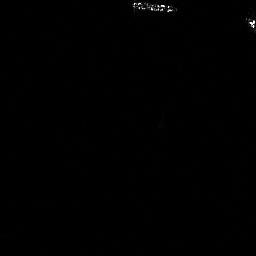ship: (128, 1, 176, 15)
